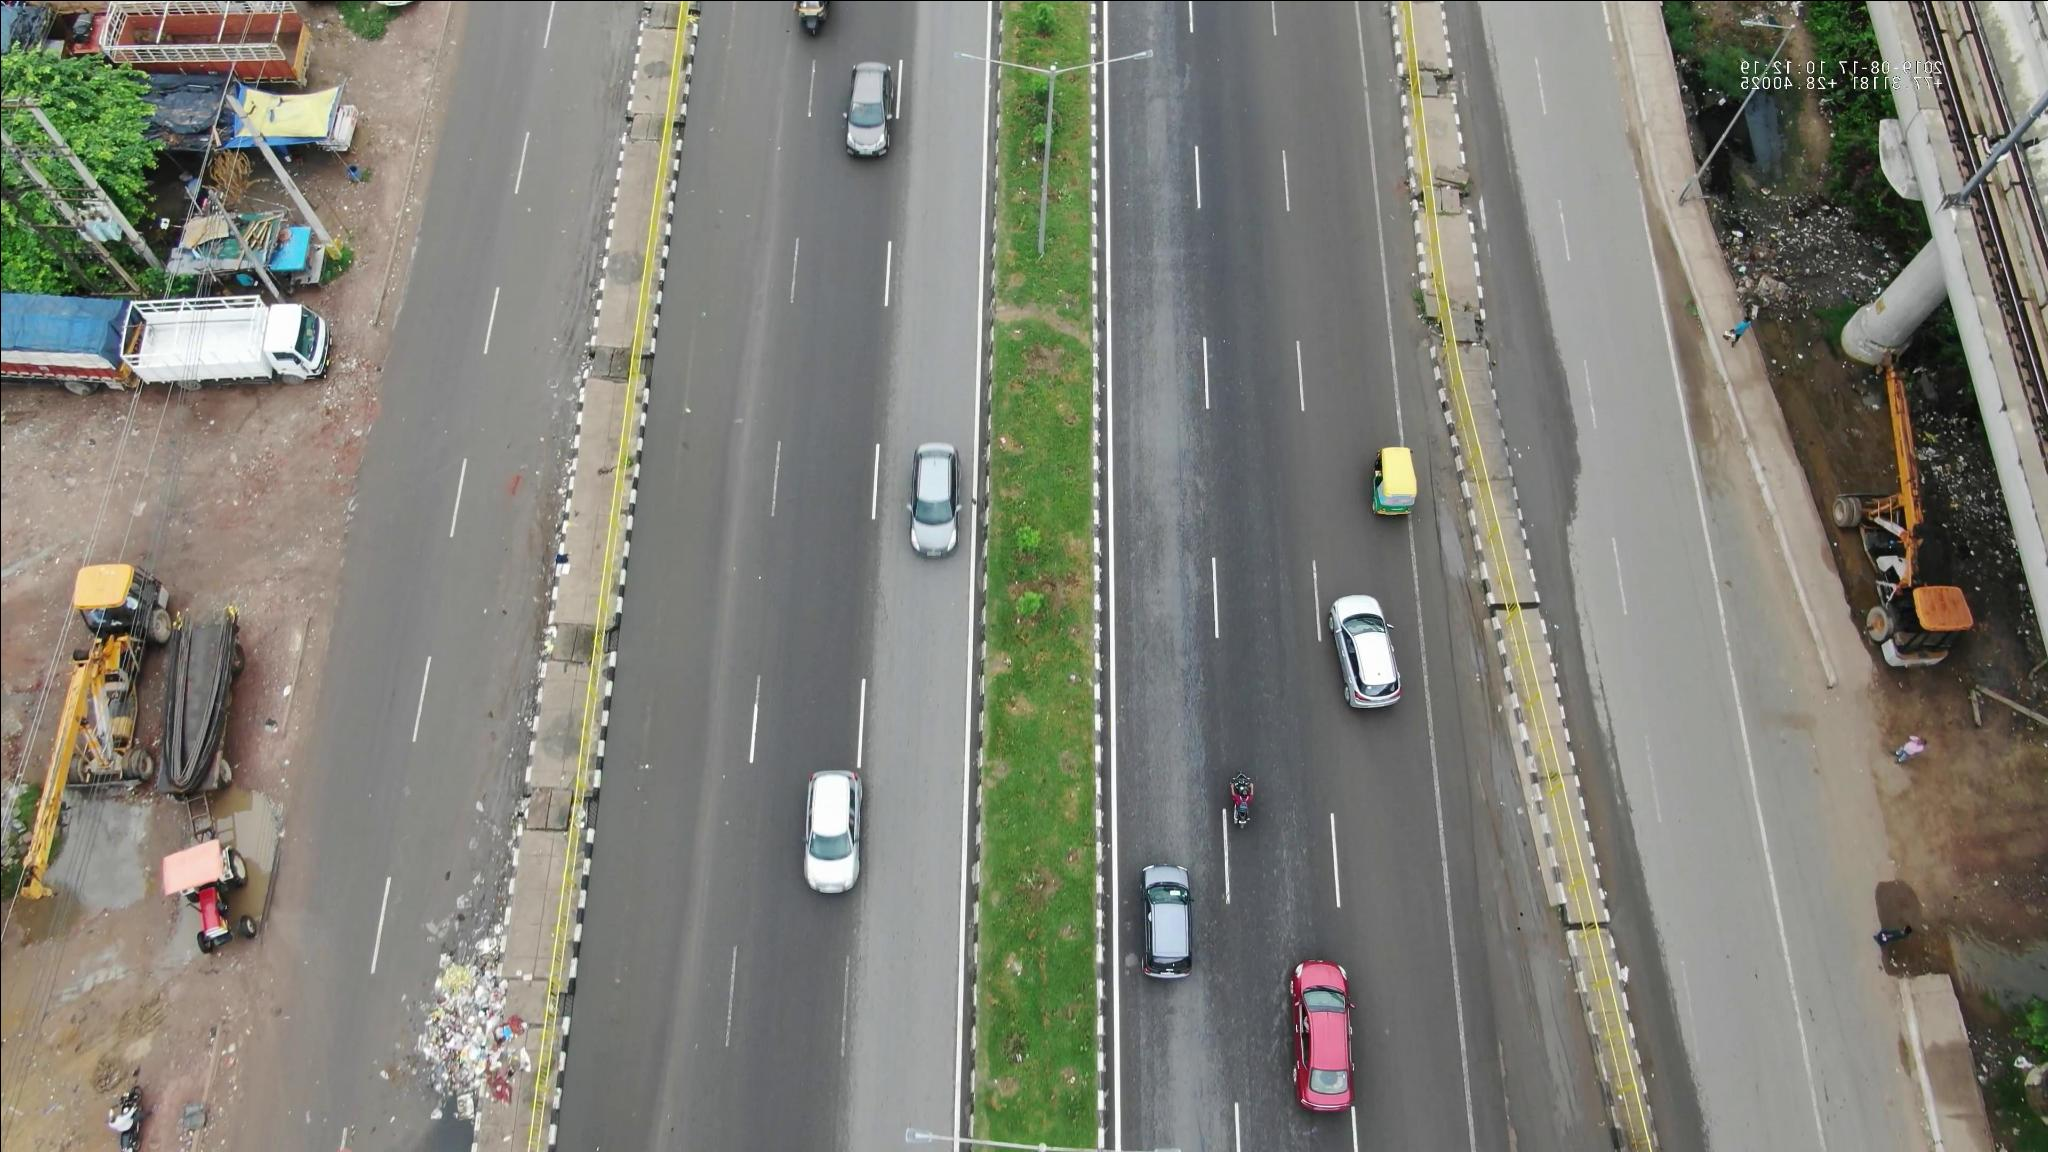Road_side_garbage: (407, 926, 527, 1138)
